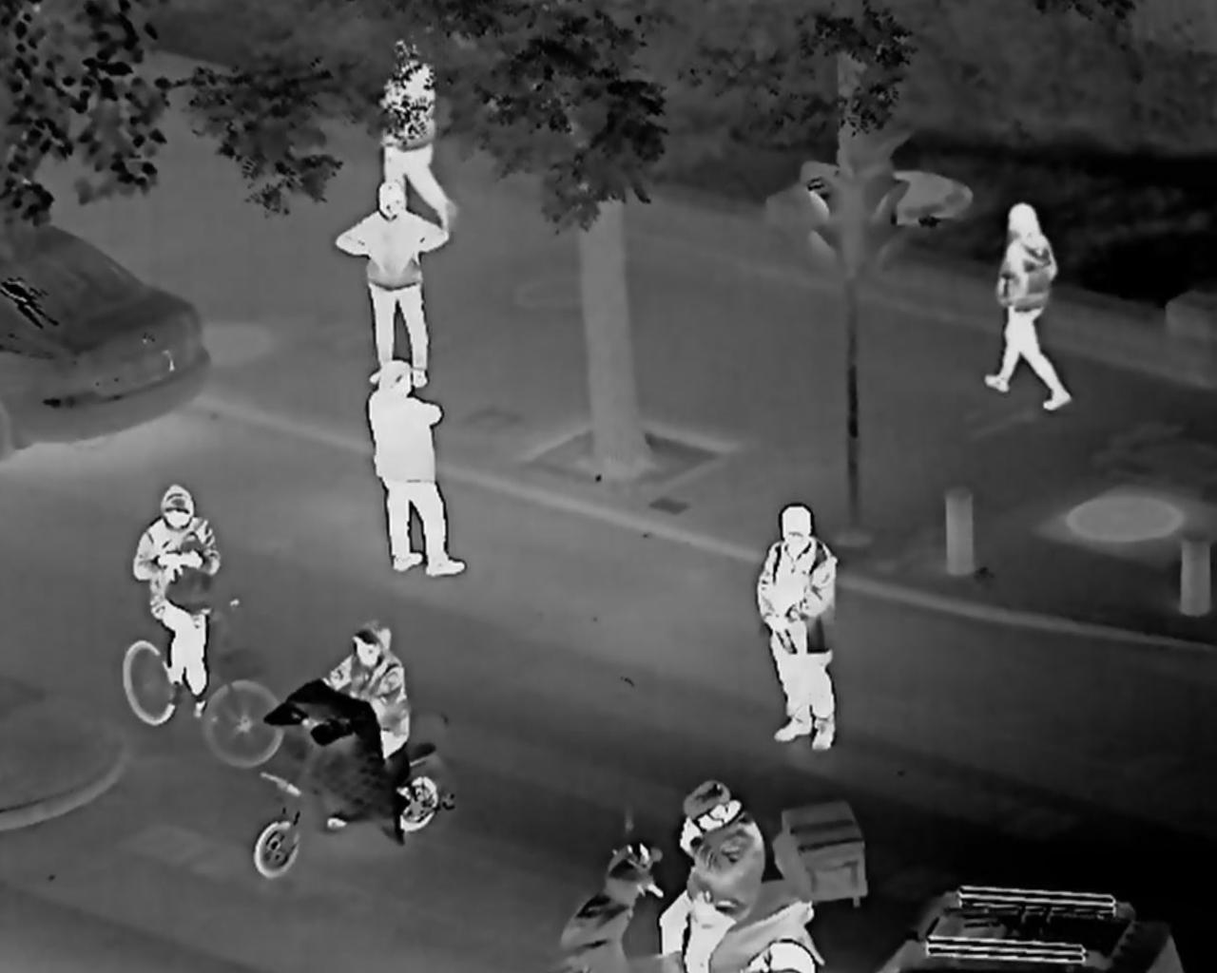person: (743, 494, 865, 738), (359, 362, 489, 585), (639, 772, 762, 973), (122, 474, 231, 696), (985, 195, 1083, 407), (343, 181, 458, 353), (319, 627, 421, 777), (371, 44, 450, 180)
